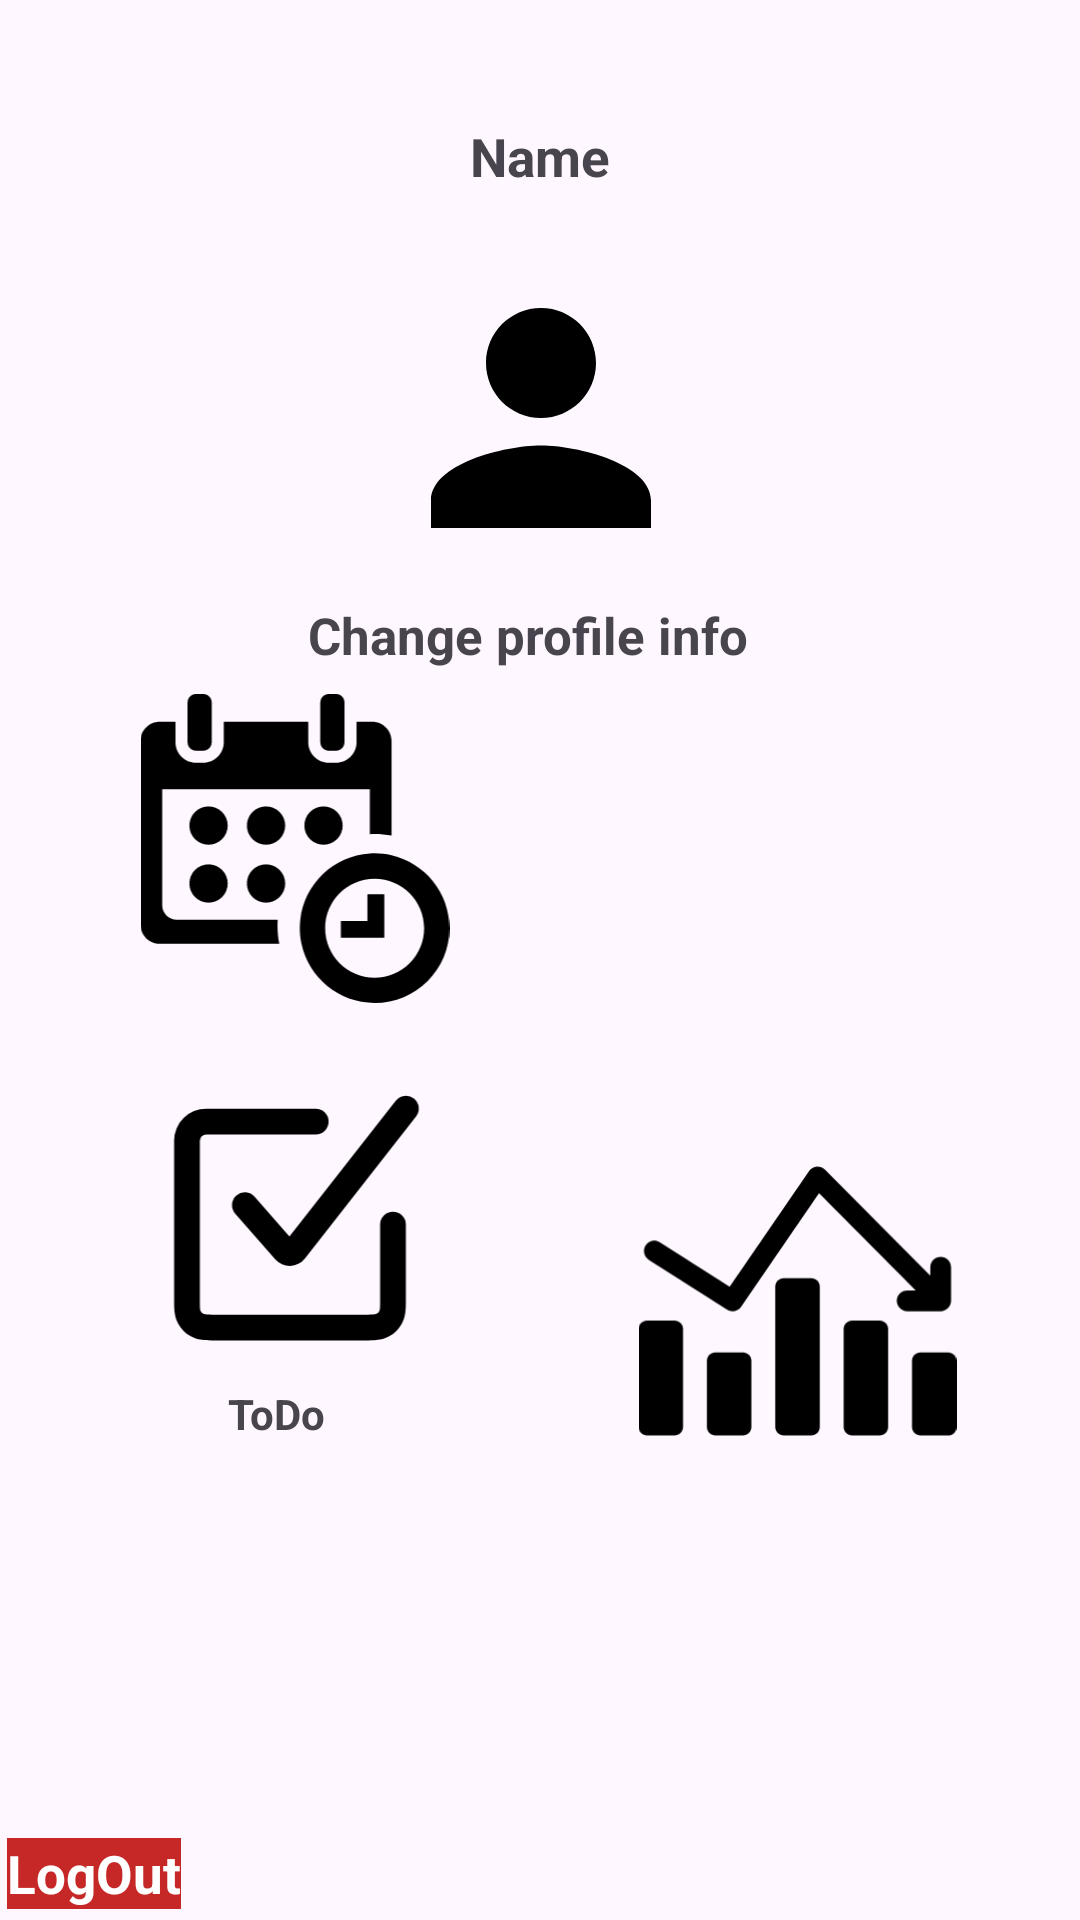

Screen size 1080px×1920px. Icon name, then its box in pixels as (x1, y1, x2, y2):
statistics: (639, 1166, 957, 1436)
user: (431, 308, 651, 528)
